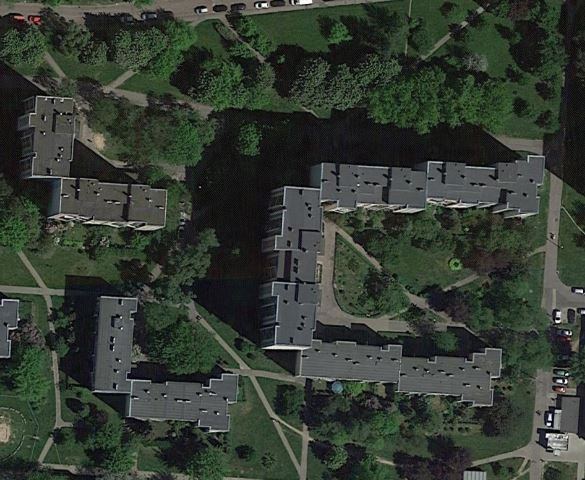block of flats: (252, 145, 549, 412), (10, 85, 175, 234), (90, 293, 242, 436)
